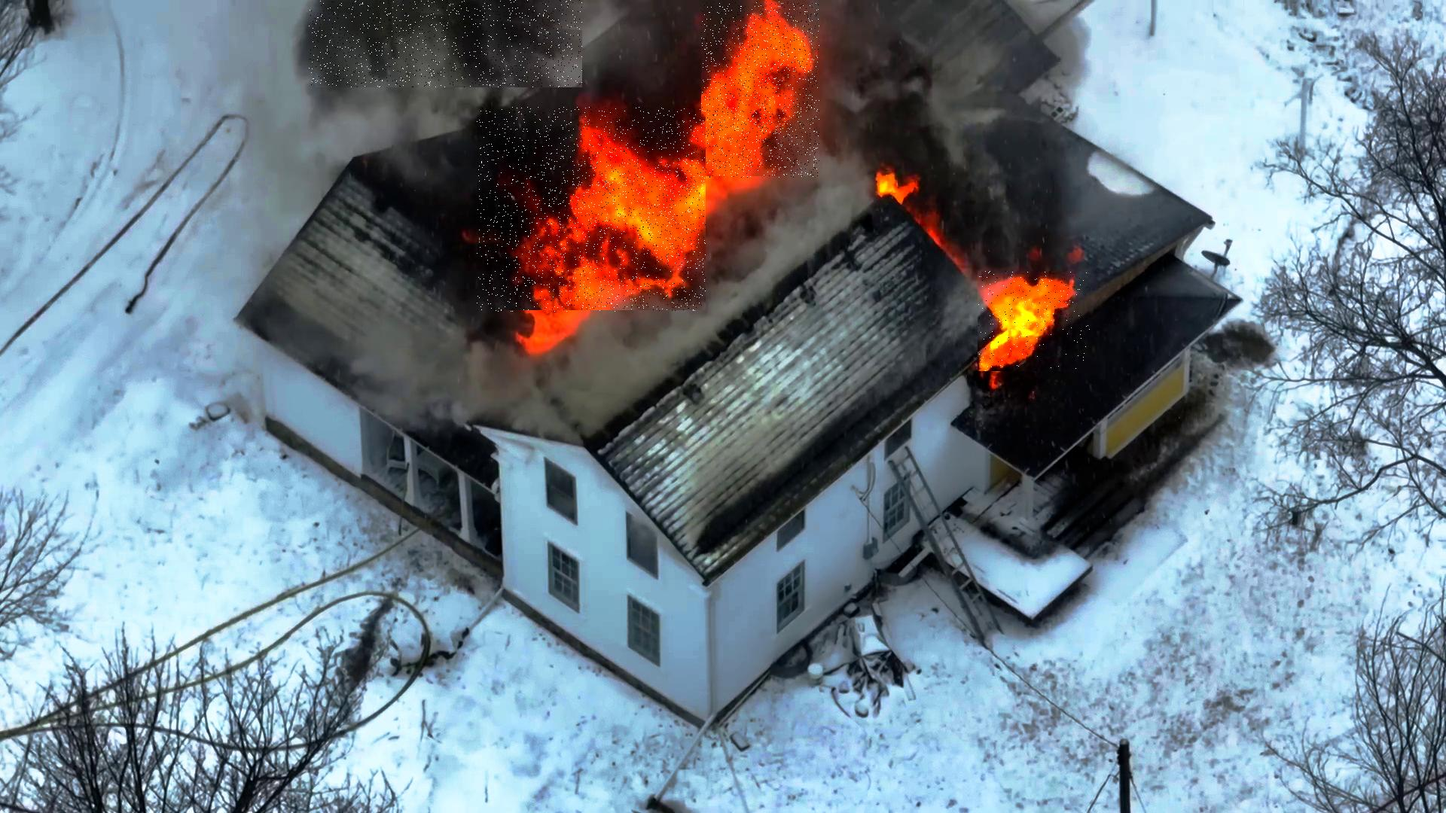fire: (477, 108, 706, 312), (701, 2, 819, 178), (978, 271, 1090, 371)
smoke: (309, 0, 582, 87)
